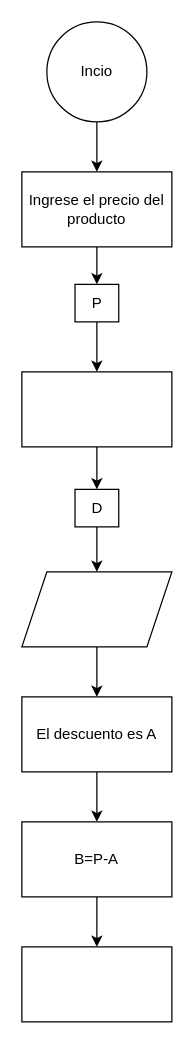
The diagram is 194 pixels wide and 1044 high, and some of its shapes have lost their labels. The shapes that lost their labels are listed below. From the top down, each one's centre as x and y in pixels, then its label:
At point (96, 409): "Ingrese el descuento".
At point (96, 609): "A=(P*D)/100".
At point (96, 984): "El precio con el descuento es B".
